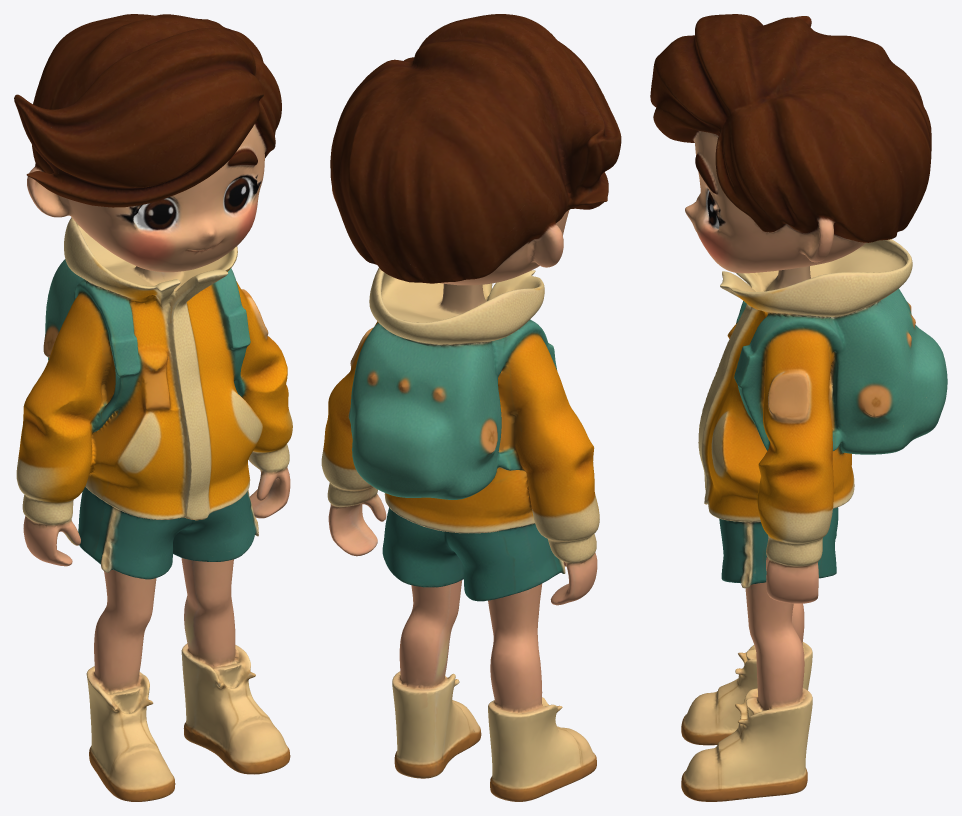
Rendered from player-meshy-source.glb.
The picture shows the model from 3 angles, left to right: view 1: azimuth 30°, elevation 25°; view 2: azimuth 150°, elevation 25°; view 3: azimuth 270°, elevation 25°; orthographic projection.
Size of the model in its own units: 0.7324 by 1.9 by 0.6941.
1 material, 1 textured.
